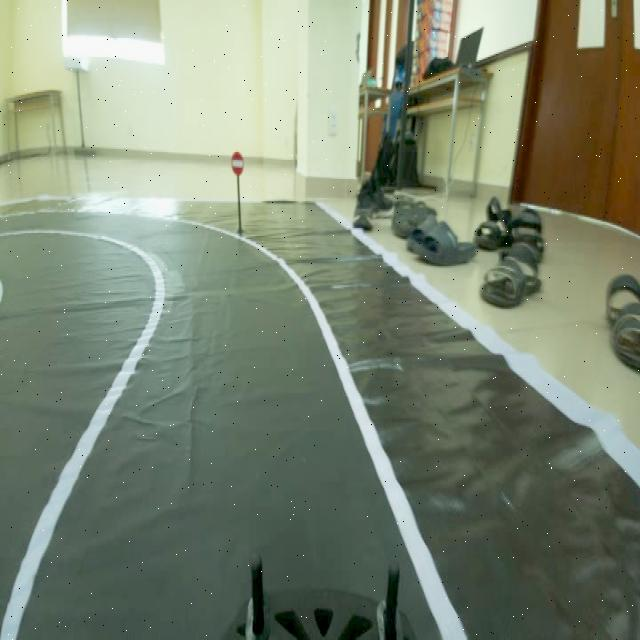no_entry: (227, 146, 247, 180)
